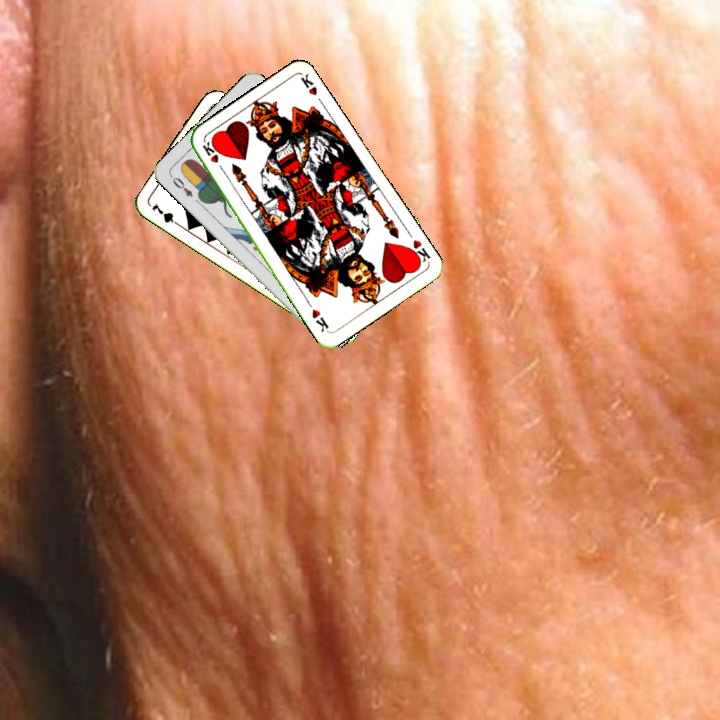EO: (166, 171, 196, 200)
G7: (148, 199, 184, 230)
HK: (198, 137, 227, 175), (404, 236, 433, 268)
